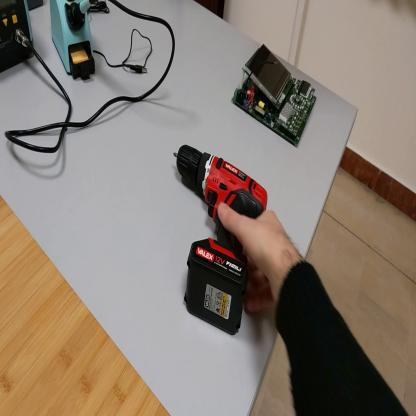electric screwdriver: (174, 146, 268, 336)
hand: (217, 201, 297, 311)
low voltage board: (228, 39, 319, 150)
socket: (28, 1, 44, 12)
welder base: (49, 1, 96, 84)
welder probe tip: (73, 2, 93, 19)
welder station: (2, 3, 33, 76)
